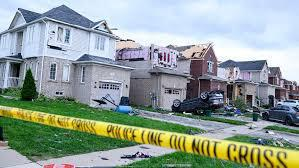affected: (0, 6, 139, 113)
major: (108, 26, 194, 110)
